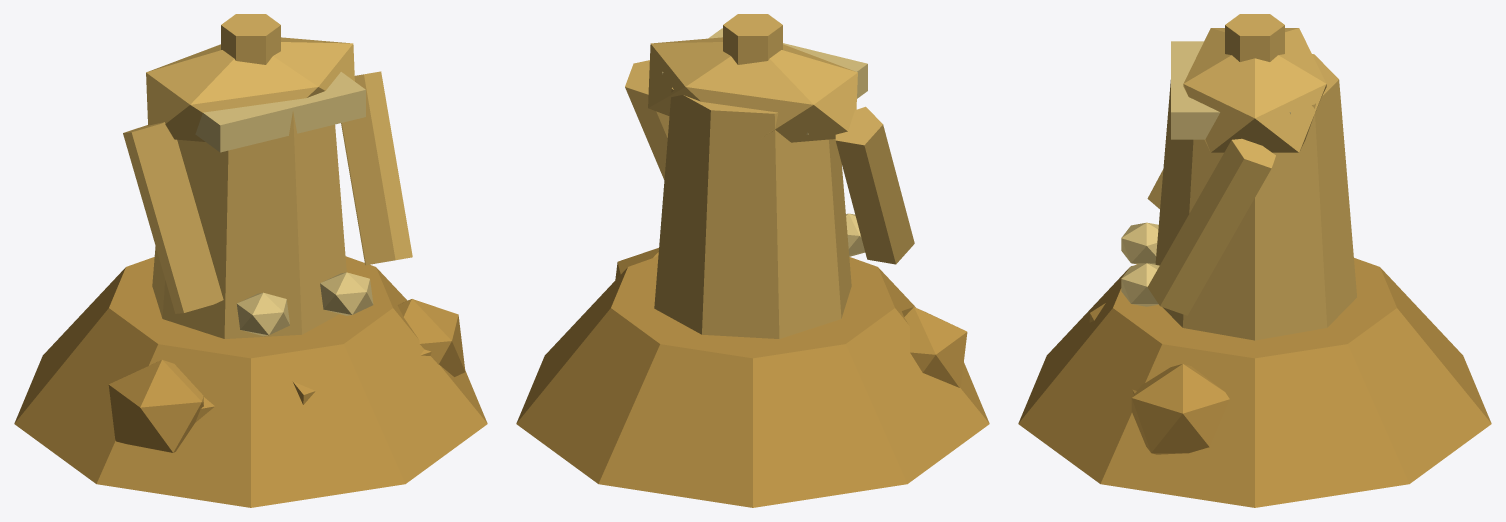
The model's file is statue_lady.glb.
3 views of the same model, side by side, from view 1: azimuth 30°, elevation 25°; view 2: azimuth 150°, elevation 25°; view 3: azimuth 270°, elevation 25° (orthographic).
Visible parts, largest first — view 1: spread gown, golden bodice, shoulders, resting arm, resting arm.001, knee, lace collar, knee.001, neck, folded hand, folded hand.001; view 2: spread gown, golden bodice, shoulders, resting arm, knee, neck, resting arm.001, lace collar, folded hand; view 3: spread gown, golden bodice, shoulders, resting arm.001, knee.001, lace collar, neck, folded hand, folded hand.001.
Boxes of the visible parts, x1,y1,x2,y2 form: spread gown: [14, 256, 487, 507]; golden bodice: [152, 111, 346, 338]; shoulders: [146, 37, 354, 141]; resting arm: [123, 122, 223, 313]; resting arm.001: [341, 71, 412, 265]; knee: [108, 360, 203, 452]; lace collar: [195, 72, 365, 152]; knee.001: [397, 299, 465, 376]; neck: [221, 14, 280, 64]; folded hand: [237, 292, 289, 336]; folded hand.001: [320, 272, 373, 315]; spread gown: [516, 256, 989, 507]; golden bodice: [654, 87, 851, 338]; shoulders: [648, 37, 857, 142]; resting arm: [835, 106, 914, 264]; knee: [902, 307, 967, 387]; neck: [723, 14, 782, 64]; resting arm.001: [625, 60, 669, 179]; lace collar: [662, 28, 867, 134]; folded hand: [846, 213, 865, 256]; spread gown: [1018, 258, 1491, 507]; golden bodice: [1155, 54, 1356, 340]; shoulders: [1183, 28, 1326, 152]; resting arm.001: [1147, 138, 1275, 315]; knee.001: [1131, 364, 1229, 454]; lace collar: [1171, 41, 1290, 139]; neck: [1225, 14, 1284, 61]; folded hand: [1121, 222, 1158, 264]; folded hand.001: [1121, 263, 1159, 306].
Size of the model in its own units: 0.3879 by 0.3549 by 0.3939.
